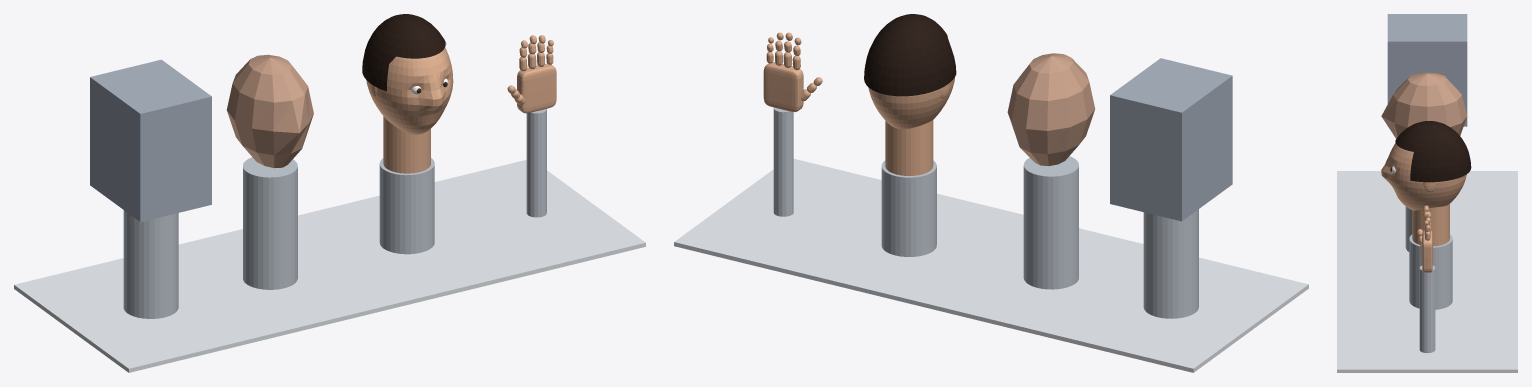
File: ish11.glb
3 views of the same model, side by side, from view 1: azimuth 30°, elevation 25°; view 2: azimuth 150°, elevation 25°; view 3: azimuth 270°, elevation 25° (orthographic). The views are drawn at different scales.
Visible parts, largest first — view 1: Pol, Box_cage, Bosh_lowpoly, Postament_-15, Postament_-45, Bosh, Postament_20, Soch, Qol, Postament_qol, Boyin; view 2: Pol, Box_cage, Bosh_lowpoly, Postament_-15, Soch, Postament_-45, Postament_20, Qol, Boyin, Postament_qol, Bosh; view 3: Pol, Box_cage, Bosh_lowpoly, Soch, Bosh, Postament_20, Postament_qol, Boyin, Qol, Postament_-15.
Part boxes in pixels (left/top/right/bottom): Pol: left=14, top=160, right=645, bottom=372; Box_cage: left=90, top=59, right=211, bottom=221; Bosh_lowpoly: left=227, top=54, right=313, bottom=168; Postament_-15: left=243, top=157, right=297, bottom=289; Postament_-45: left=123, top=210, right=178, bottom=318; Bosh: left=366, top=47, right=453, bottom=134; Postament_20: left=379, top=158, right=434, bottom=254; Soch: left=362, top=14, right=446, bottom=91; Qol: left=507, top=35, right=556, bottom=113; Postament_qol: left=526, top=109, right=546, bottom=217; Boyin: left=383, top=116, right=430, bottom=173; Pol: left=674, top=159, right=1308, bottom=372; Box_cage: left=1110, top=58, right=1232, bottom=221; Bosh_lowpoly: left=1007, top=53, right=1095, bottom=166; Postament_-15: left=1023, top=156, right=1078, bottom=289; Soch: left=864, top=14, right=956, bottom=96; Postament_-45: left=1143, top=209, right=1198, bottom=318; Postament_20: left=881, top=160, right=936, bottom=256; Qol: left=763, top=32, right=822, bottom=111; Boyin: left=885, top=120, right=933, bottom=175; Postament_qol: left=773, top=107, right=793, bottom=216; Bosh: left=868, top=48, right=954, bottom=129; Pol: left=1337, top=171, right=1517, bottom=372; Box_cage: left=1387, top=14, right=1467, bottom=126; Bosh_lowpoly: left=1381, top=72, right=1467, bottom=138; Soch: left=1395, top=121, right=1471, bottom=182; Bosh: left=1381, top=143, right=1466, bottom=210; Postament_20: left=1409, top=234, right=1452, bottom=309; Postament_qol: left=1419, top=265, right=1435, bottom=353; Boyin: left=1412, top=204, right=1449, bottom=246; Qol: left=1417, top=205, right=1432, bottom=272; Postament_-15: left=1405, top=206, right=1412, bottom=251.
Size of the model in its own units: 1.3 by 0.552 by 0.5.
